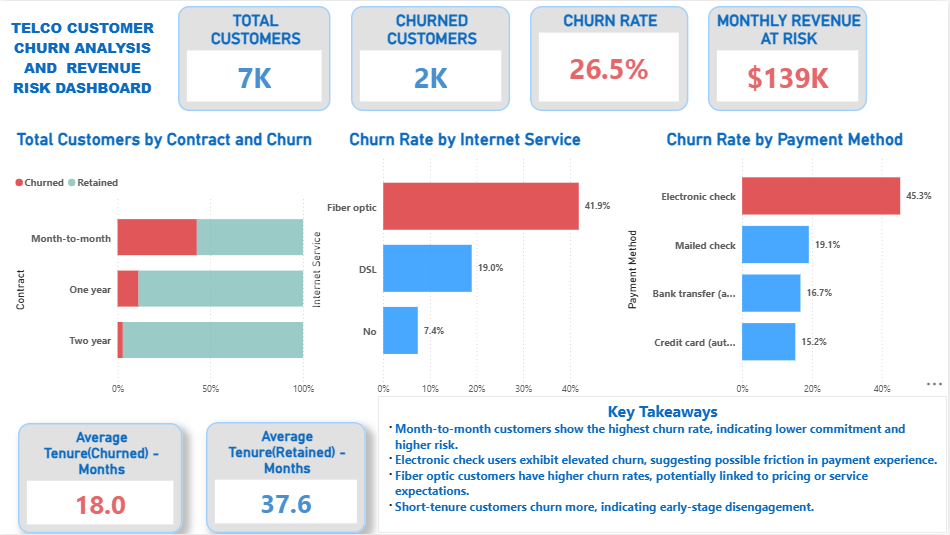

Layout of this report page (visuals, bound fields, positions):
{"tool":"powerbi","page":{"name":"Executive Overview","canvas":[1280,720],"ordinal":0},"visuals":[{"type":"textbox","box":[0,0,222.4,161],"z":0},{"type":"cardVisual","title":"MONTHLY REVENUE AT RISK","fields":{"Data":["telco Customers.Monthly Revenue at Risk"]},"box":[957.1,7.3,215.1,142],"z":1000},{"type":"cardVisual","title":"CHURN  RATE","fields":{"Data":["telco Customers.Churn Rate"]},"box":[716.1,7.3,213.7,142],"z":2000},{"type":"cardVisual","title":"CHURNED CUSTOMERS","fields":{"Data":["telco Customers.Churned Customers"]},"box":[473.7,7.3,215.1,142],"z":3000},{"type":"cardVisual","title":"TOTAL CUSTOMERS","fields":{"Data":["telco Customers.Total Customers"]},"box":[240,7.3,206.3,142],"z":4000},{"type":"clusteredBarChart","fields":{"Y":["telco Customers.Churn Rate"],"Category":["telco Customers.Internet Service"]},"box":[414.7,172.8,427.7,370.1],"z":5000},{"type":"clusteredBarChart","fields":{"Y":["telco Customers.Churn Rate"],"Category":["telco Customers.PaymentMethod"]},"box":[842.4,172.8,437.8,370.1],"z":6000},{"type":"cardVisual","title":"Average Tenure(Churned) - Months","fields":{"Data":["telco Customers.Average Tenure(Churned)"]},"box":[24.9,570.7,222.4,149.3],"z":7000},{"type":"cardVisual","title":"Average Tenure(Retained) - Months","fields":{"Data":["telco Customers.Average Tenure(Retained)"]},"box":[277.9,568.8,216,149.8],"z":8000},{"type":"textbox","box":[511,534,769,185],"z":9000},{"type":"hundredPercentStackedBarChart","title":"Total Customers by Contract and Churn ","fields":{"Category":["telco Customers.Contract"],"Y":["telco Customers.Total Customers"],"Series":["telco Customers.Churn Label"]},"box":[14.4,172.8,414.7,370.1],"z":11000}]}

Visuals, with their boxes in screenshot pixels (x1, y1, x2, y2), scaled from the page's 1280x720 canvas onto the 950x535 screenshot:
textbox: <bbox>0, 0, 165, 120</bbox>
"MONTHLY REVENUE AT RISK" cardVisual: <bbox>710, 5, 870, 111</bbox>
"CHURN  RATE" cardVisual: <bbox>531, 5, 690, 111</bbox>
"CHURNED CUSTOMERS" cardVisual: <bbox>352, 5, 511, 111</bbox>
"TOTAL CUSTOMERS" cardVisual: <bbox>178, 5, 331, 111</bbox>
clusteredBarChart - telco Customers.Churn Rate x telco Customers.Internet Service: <bbox>308, 128, 625, 403</bbox>
clusteredBarChart - telco Customers.Churn Rate x telco Customers.PaymentMethod: <bbox>625, 128, 949, 403</bbox>
"Average Tenure(Churned) - Months" cardVisual: <bbox>18, 424, 184, 534</bbox>
"Average Tenure(Retained) - Months" cardVisual: <bbox>206, 423, 367, 534</bbox>
textbox: <bbox>379, 397, 949, 534</bbox>
"Total Customers by Contract and Churn " hundredPercentStackedBarChart: <bbox>11, 128, 318, 403</bbox>
